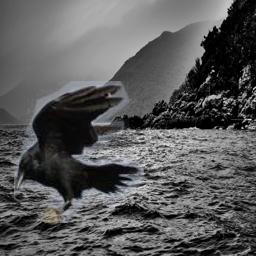Crow: (14, 81, 144, 223)
